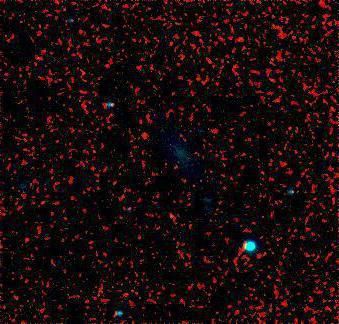star: (157, 203, 187, 233)
